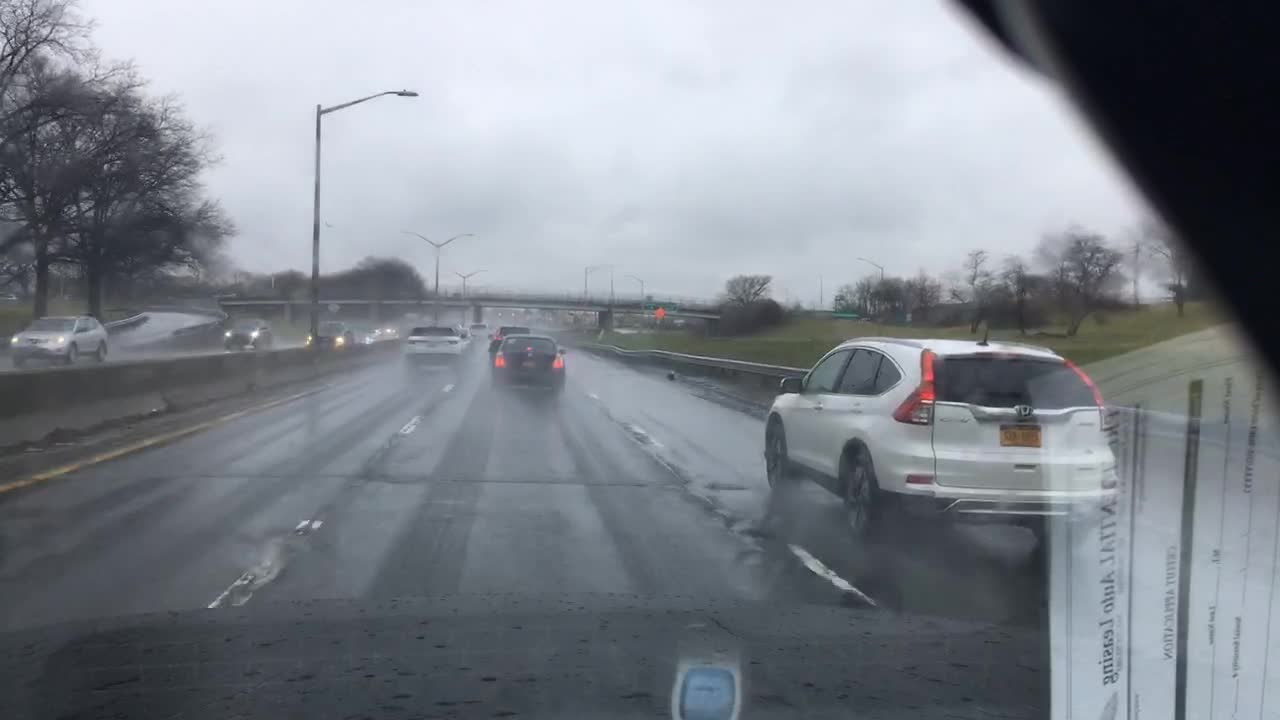car: (760, 324, 1119, 542), (8, 314, 111, 366), (487, 335, 567, 386), (403, 323, 469, 368), (222, 317, 272, 347), (489, 323, 529, 360), (306, 322, 354, 347), (373, 322, 391, 338)
traffic sign: (651, 307, 668, 322)
truck: (469, 320, 487, 342)
